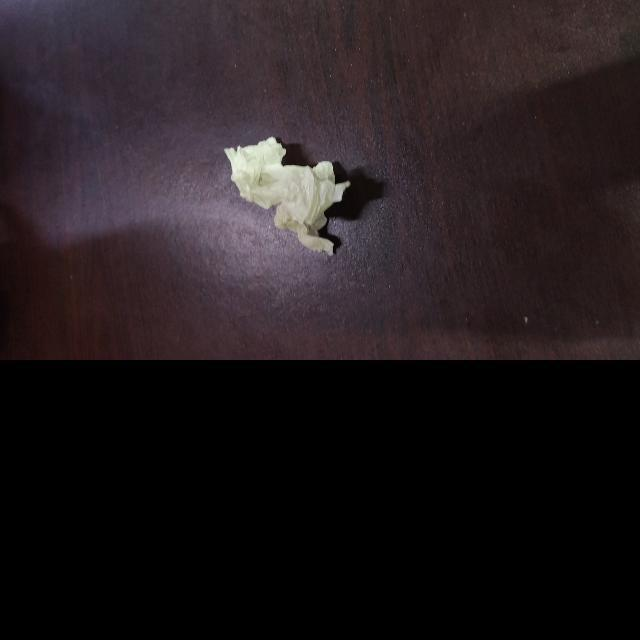kitchen paper: (227, 133, 361, 265)
